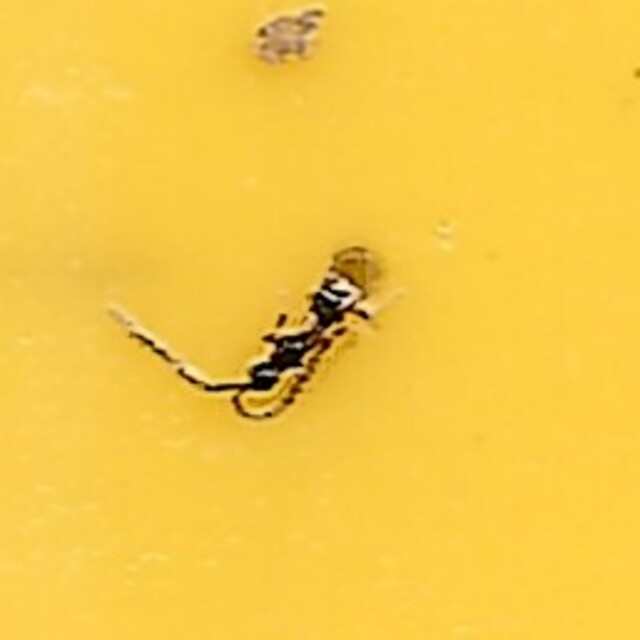Hymenoptera: (249, 240, 391, 400)
